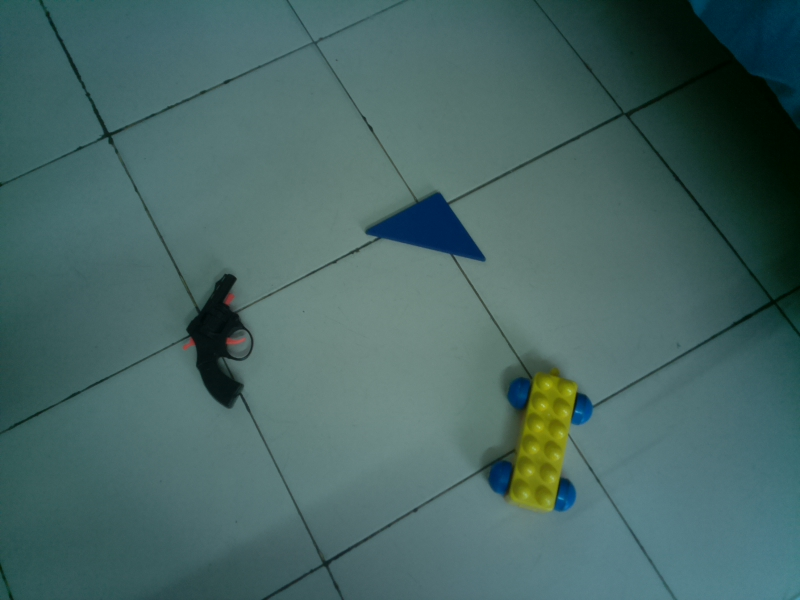Gun: (181, 274, 256, 410)
Triangle: (361, 190, 493, 266)
toy_Car: (485, 368, 594, 514)
